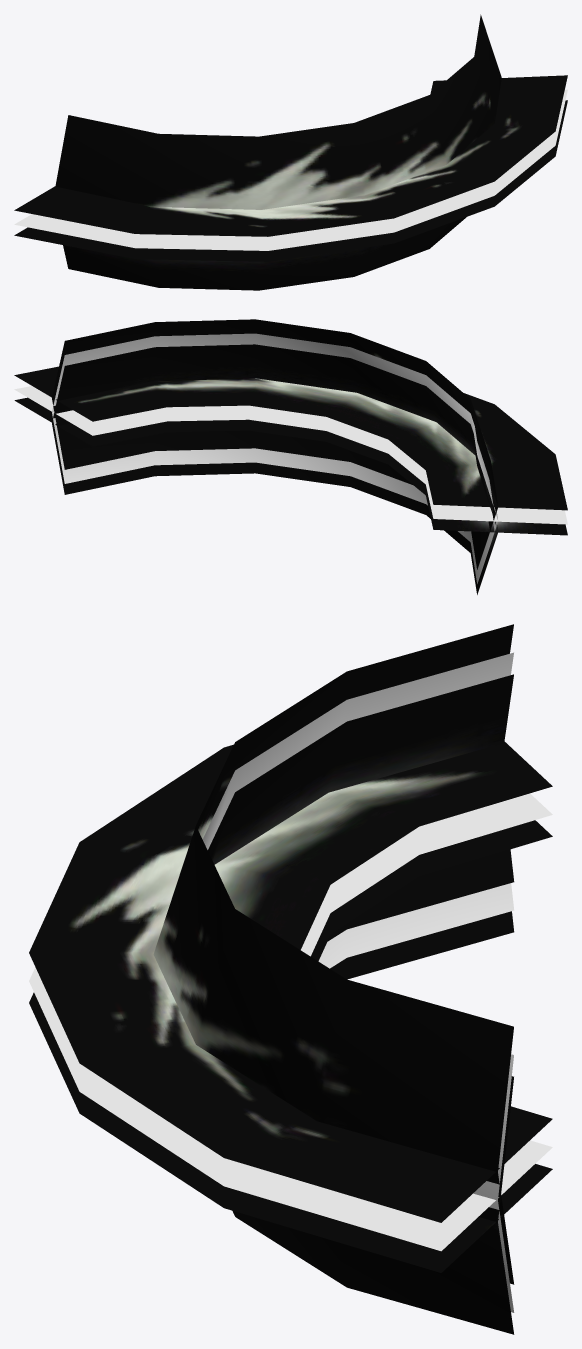
File: Effect_1181attack_S #064416.fbx
3 views of the same model, one above another, from view 1: azimuth 30°, elevation 25°; view 2: azimuth 150°, elevation 25°; view 3: azimuth 270°, elevation 25° (orthographic). The views are drawn at different scales.
Parts seen in each view (by area): view 1: Effect_1001tattack01, Effect_1001tattack02, Effect_1001tattack03; view 2: Effect_1001tattack01, Effect_1001tattack02, Effect_1001tattack03; view 3: Effect_1001tattack01, Effect_1001tattack02, Effect_1001tattack03.
Boxes of the visible parts, bbox=[...] form: Effect_1001tattack01: bbox=[14, 14, 567, 236]; Effect_1001tattack02: bbox=[14, 100, 567, 290]; Effect_1001tattack03: bbox=[14, 89, 567, 250]; Effect_1001tattack01: bbox=[14, 319, 567, 569]; Effect_1001tattack02: bbox=[14, 344, 567, 594]; Effect_1001tattack03: bbox=[14, 333, 567, 583]; Effect_1001tattack01: bbox=[29, 624, 552, 1284]; Effect_1001tattack02: bbox=[29, 674, 552, 1334]; Effect_1001tattack03: bbox=[29, 652, 552, 1312].
Bounding box in the file's own units: 6.38 × 1.7 × 2.62.
Materials: 3 (3 with a texture image).
